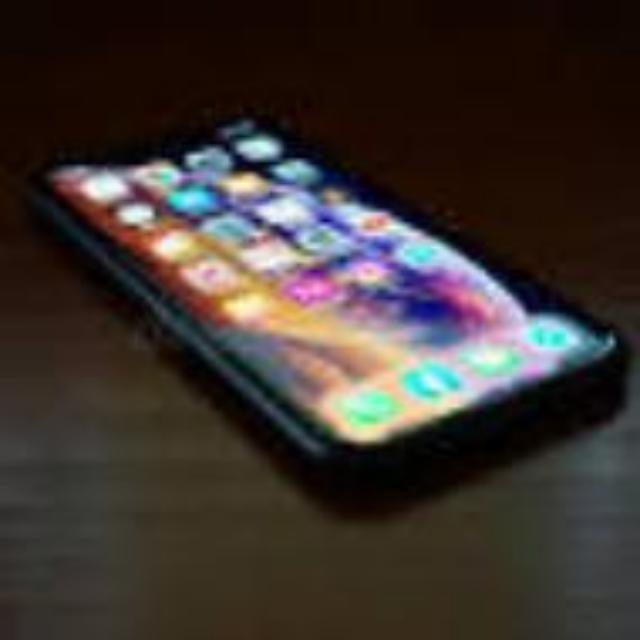Phone: (16, 101, 630, 485)
